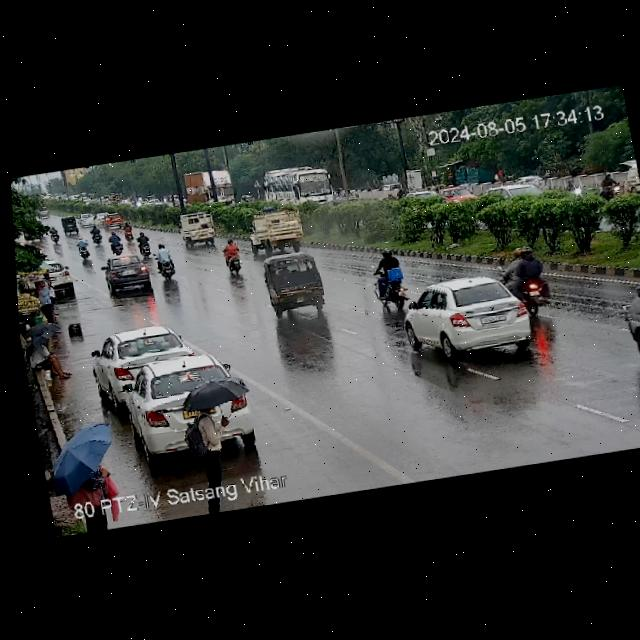bus: (252, 159, 338, 211)
car: (117, 349, 258, 463), (396, 270, 540, 366), (85, 322, 204, 410), (260, 248, 334, 316), (96, 247, 156, 304), (611, 262, 640, 365), (18, 255, 79, 303), (437, 179, 479, 204), (598, 170, 622, 202), (101, 210, 128, 230), (77, 209, 99, 229), (33, 202, 53, 219)
motorcycle: (354, 241, 411, 315), (499, 248, 554, 299), (150, 245, 181, 285), (215, 237, 244, 275), (133, 229, 161, 258), (104, 231, 128, 255), (74, 234, 91, 262), (566, 177, 583, 197), (89, 224, 105, 244), (49, 224, 62, 244)
person: (177, 378, 261, 484), (38, 418, 120, 507), (22, 320, 70, 384), (32, 275, 63, 325)
truck: (244, 205, 313, 252), (180, 164, 238, 212), (176, 209, 223, 249)
